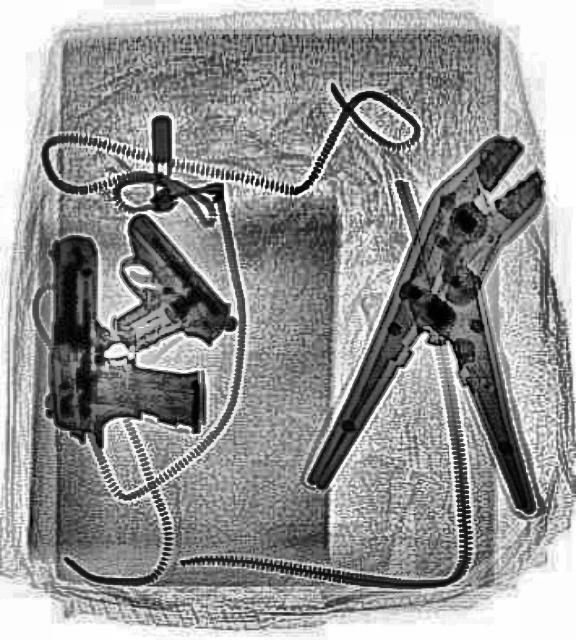Gun: (45, 233, 199, 429), (74, 206, 236, 377)
